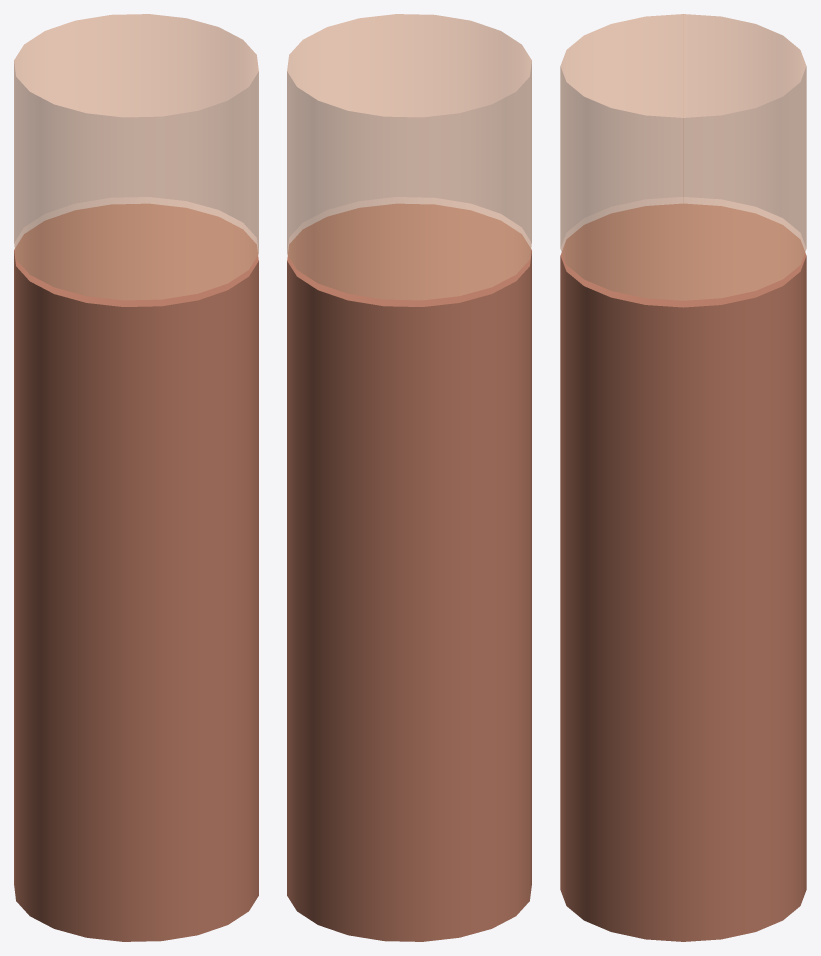
Rendered from Perfume_Orange.fbx.
3 views of the same model, side by side, from view 1: azimuth 30°, elevation 25°; view 2: azimuth 150°, elevation 25°; view 3: azimuth 270°, elevation 25° (orthographic).
Visible parts, largest first — view 1: polySurface401; view 2: polySurface401; view 3: polySurface401.
Part boxes in pixels (x1=…): polySurface401: x1=14, y1=14, x2=258, y2=941; polySurface401: x1=287, y1=14, x2=531, y2=941; polySurface401: x1=560, y1=14, x2=806, y2=941.
Size of the model in its own units: 0.04 by 0.1478 by 0.04.
